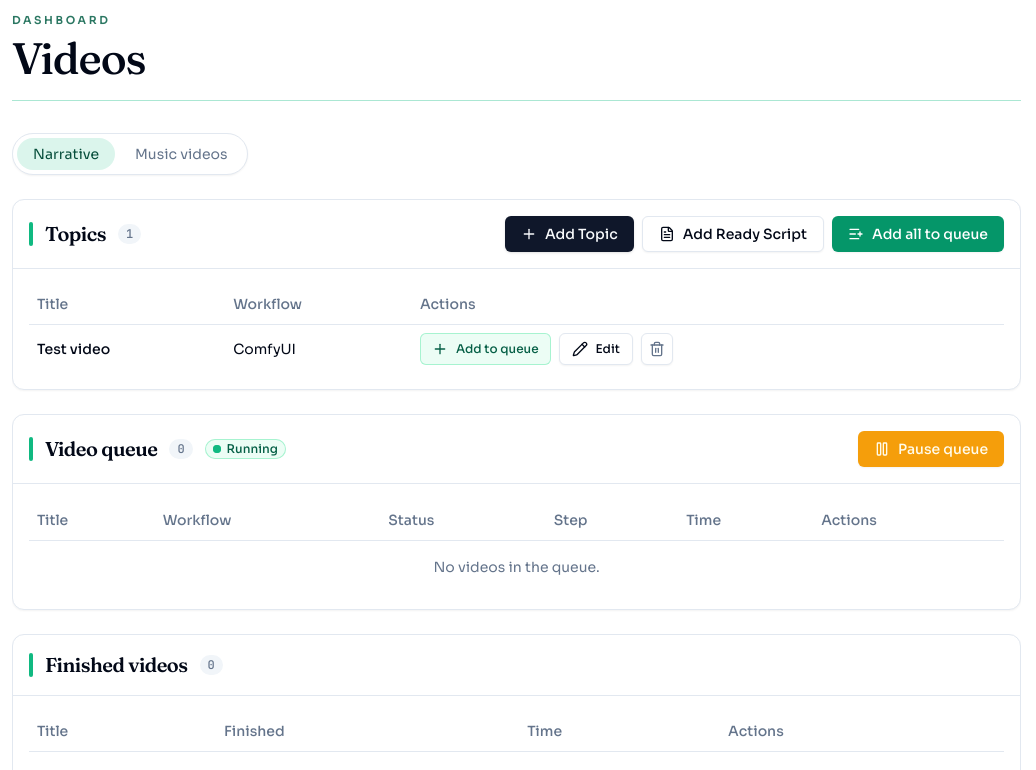
Test case: VideosClient action spinner sync › Start row: spinner persists past POST and clears once the row leaves topics
Click the button "Add to queue": (485, 349) [420,333,551,365]
Wait 300 ms
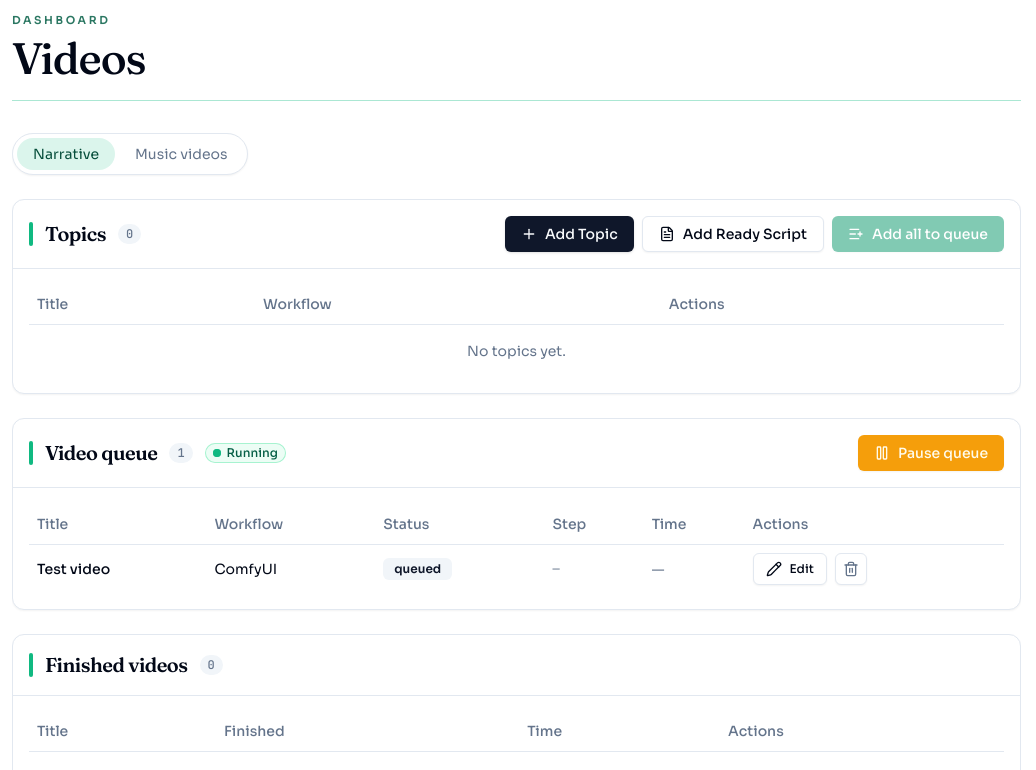
expect the row with test id "topic-row-v1" is gone: met
expect the row with test id "queue-row-v1" is shown: met, box [29,544,1004,593]
